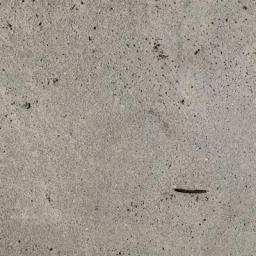FOD: (173, 185, 214, 198)
